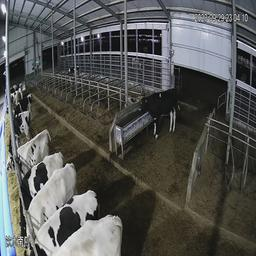cow: (15, 155, 79, 226), (35, 185, 103, 249), (48, 206, 128, 254), (18, 148, 67, 203), (137, 85, 181, 141), (11, 122, 51, 170), (8, 108, 33, 142), (12, 92, 35, 110), (5, 81, 24, 101)
